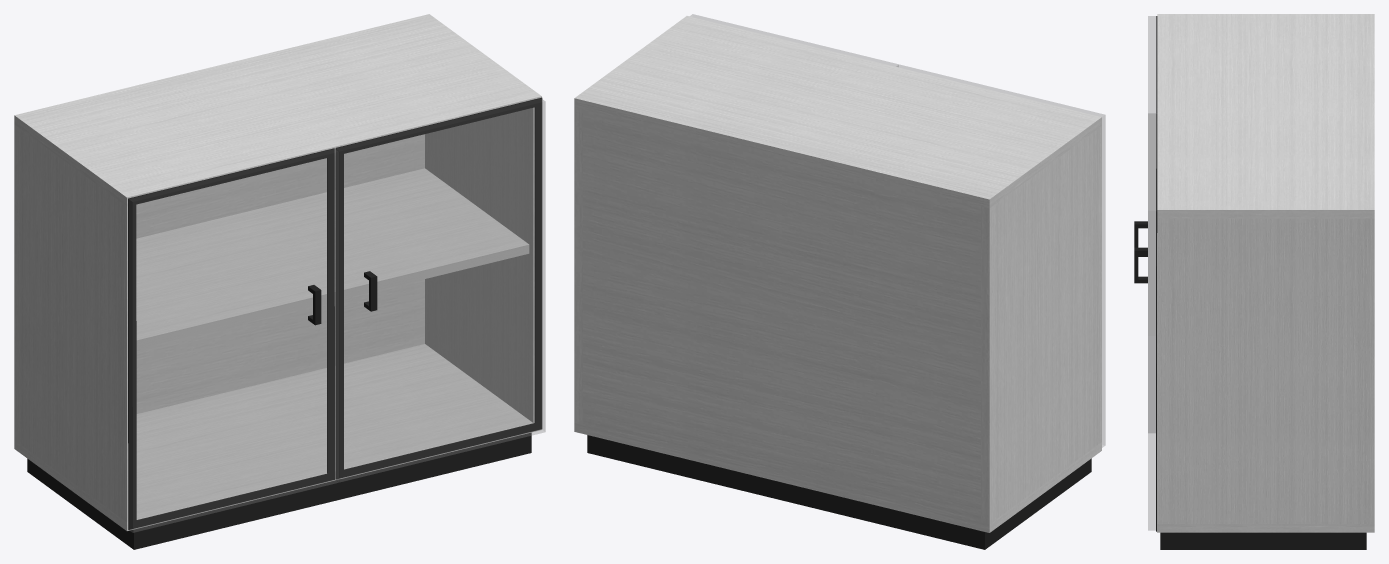
File: Cabinet 1.FBX
3 views of the same model, side by side, from view 1: azimuth 30°, elevation 25°; view 2: azimuth 150°, elevation 25°; view 3: azimuth 270°, elevation 25° (orthographic). The views are drawn at different scales.
Visible parts, largest first — view 1: cabinet 1; view 2: cabinet 1; view 3: cabinet 1.
Part boxes in pixels (x1,y1,x2,y2): cabinet 1: (14, 14, 545, 549); cabinet 1: (574, 14, 1105, 549); cabinet 1: (1134, 14, 1374, 549).
Size of the model in its own units: 101 by 82.39 by 52.22.
3 materials, 1 textured.
